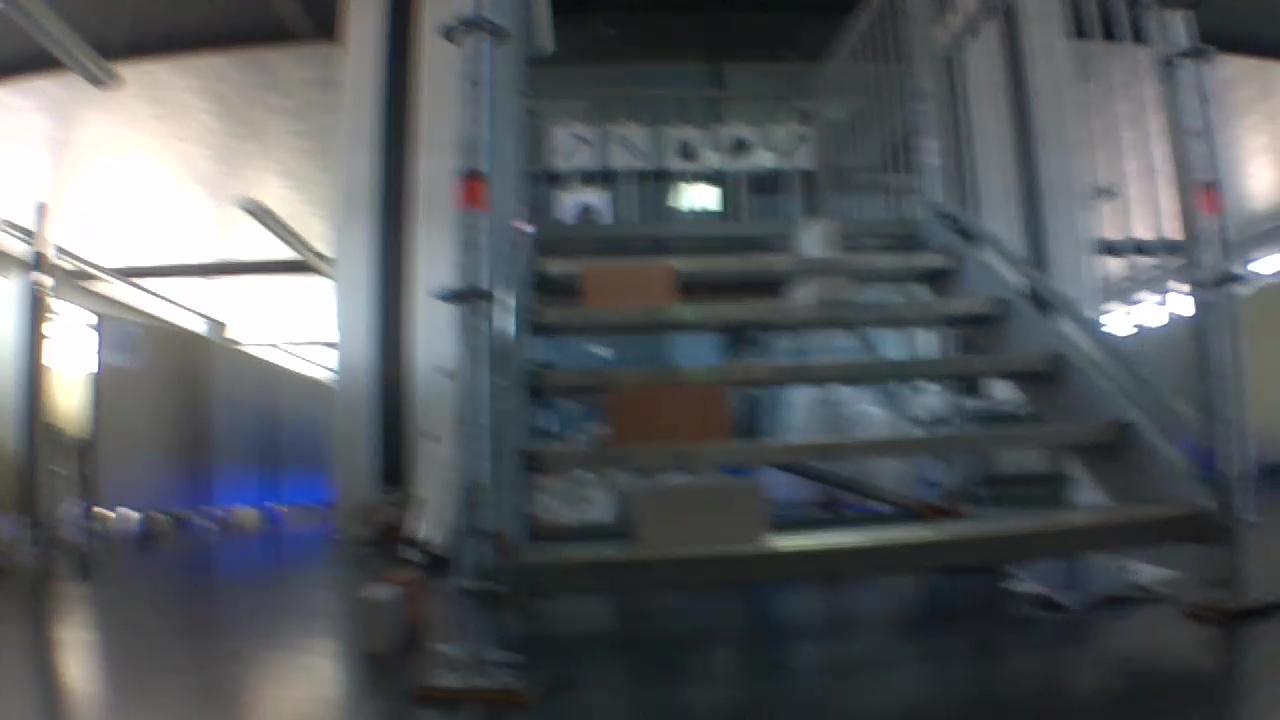brick: (637, 483, 758, 548), (611, 385, 726, 439), (586, 266, 677, 303), (353, 582, 398, 653), (389, 568, 422, 628), (797, 220, 841, 254), (791, 279, 848, 301)
edge: (519, 514, 1209, 588), (528, 422, 1126, 463), (531, 351, 1068, 383), (533, 294, 1009, 321), (534, 250, 961, 271), (533, 222, 925, 234)
stairs: (411, 3, 1280, 708)
steps: (516, 218, 1225, 620)
